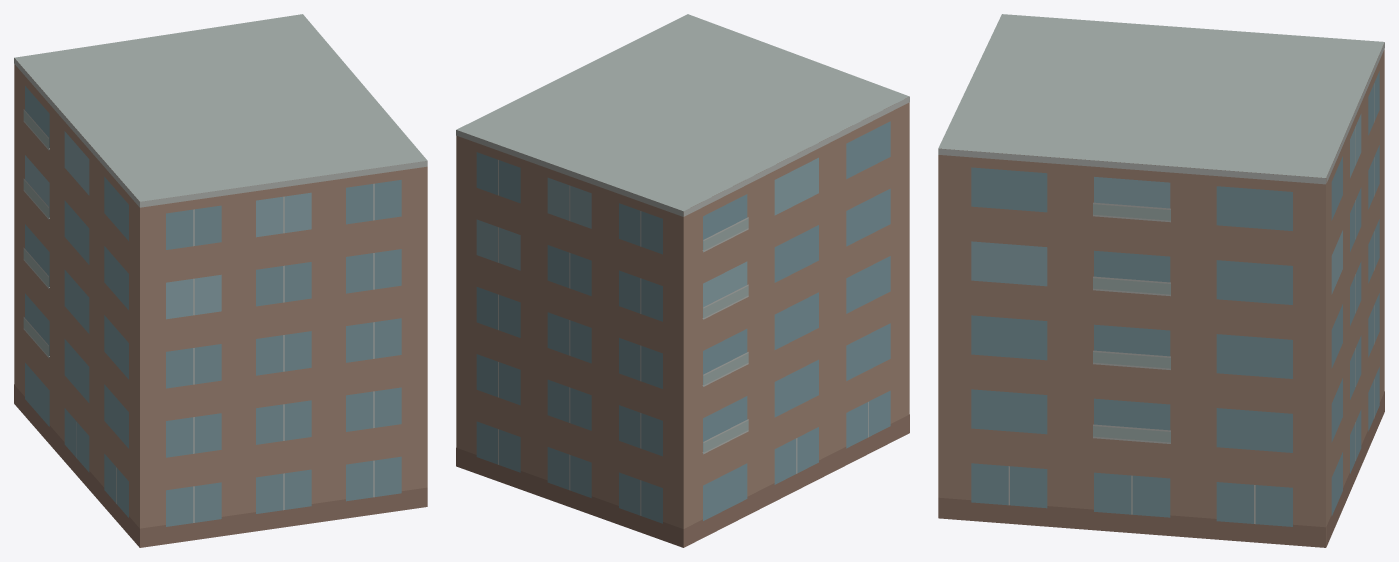
File: survey-upis-32951758.glb
The picture shows the model from 3 angles, left to right: view 1: azimuth 30°, elevation 25°; view 2: azimuth 150°, elevation 25°; view 3: azimuth 270°, elevation 25°; orthographic projection. The views are drawn at different scales.
Visible parts, largest first — view 1: survey-upis-32951758.tmp; view 2: survey-upis-32951758.tmp; view 3: survey-upis-32951758.tmp.
Part boxes in pixels (x1,y1,x2,y2): survey-upis-32951758.tmp: [14, 14, 427, 547]; survey-upis-32951758.tmp: [456, 14, 909, 547]; survey-upis-32951758.tmp: [938, 14, 1384, 547].
Size of the model in its own units: 13.62 by 14.3 by 15.66.
